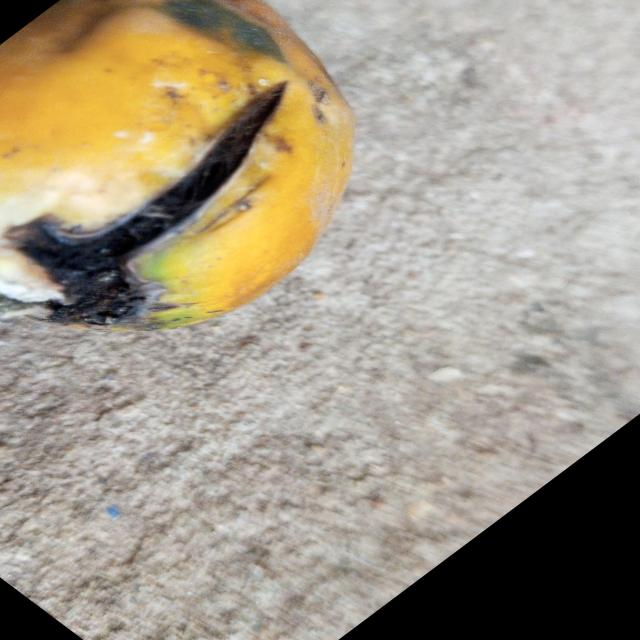damaged: (0, 0, 355, 326)
